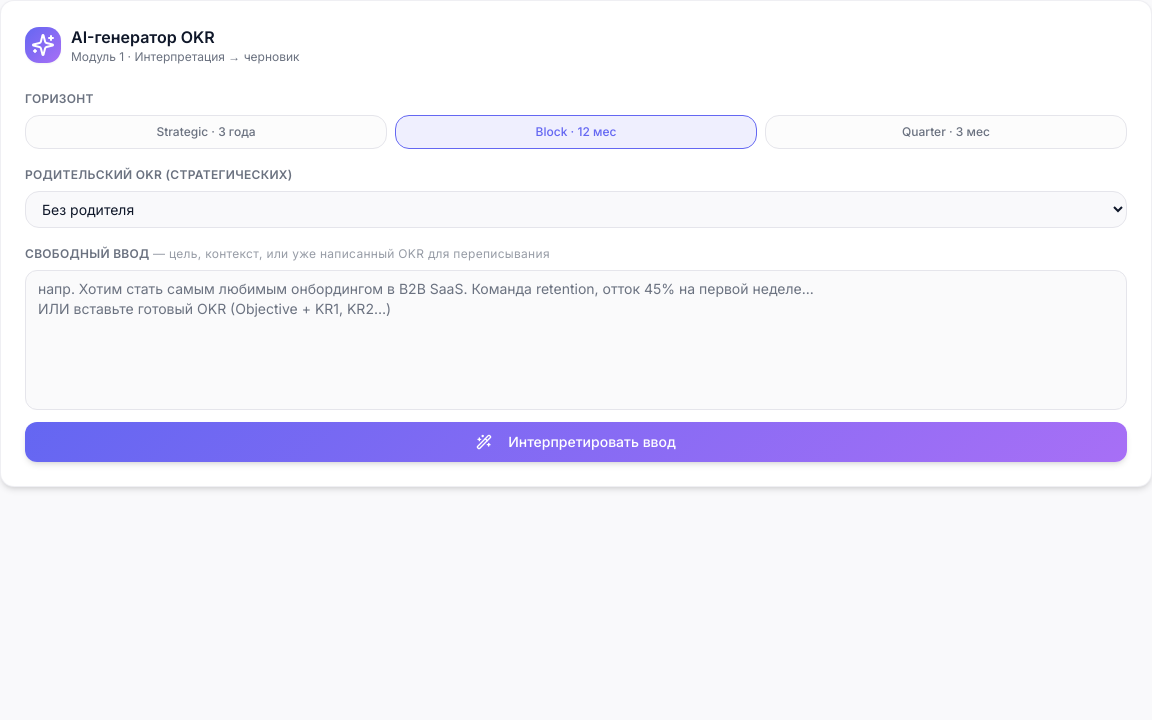
Scenario: OkrGenerator (Module 1) › saveOkr вызывается с третьим аргументом — выбранным parentLink
Later steps or results of the test are not shown.
Select "P2" in the dropdown named "Родительский OKR". click: {"x": 576, "y": 210}
box: 25,191 -> 1127,228
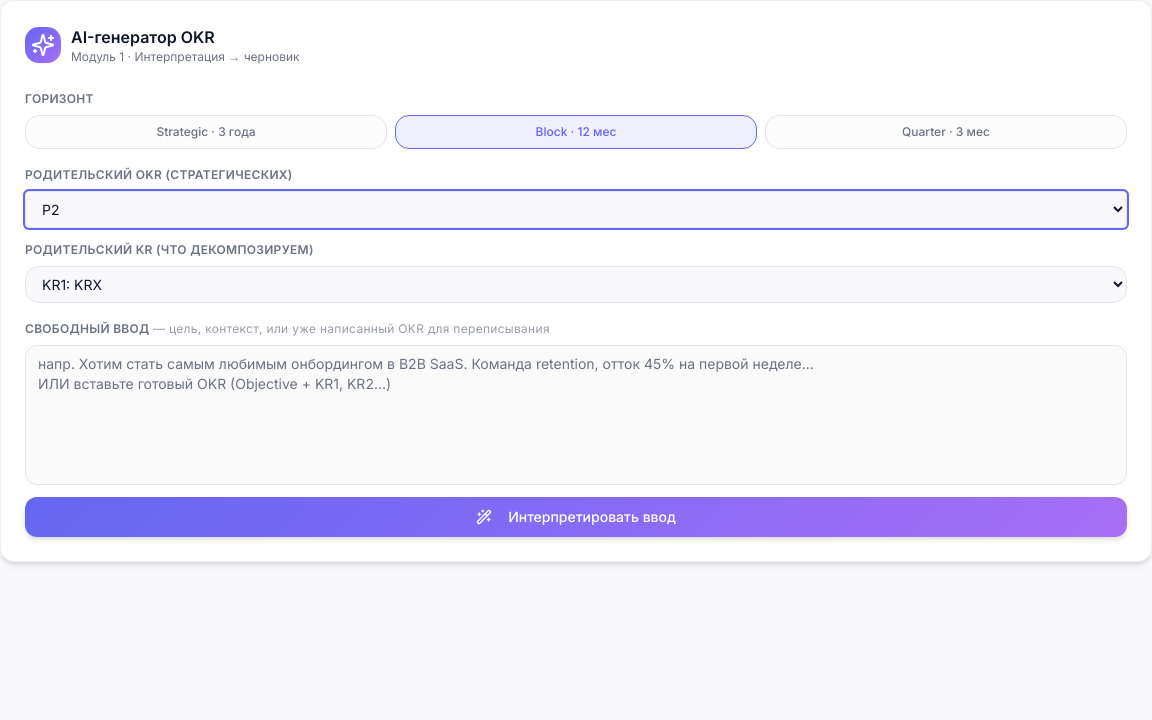
Type "raw" into the text box with placeholder "Хотим стать самым любимым онбордингом". click: {"x": 576, "y": 415}
box: 25,345 -> 1127,485
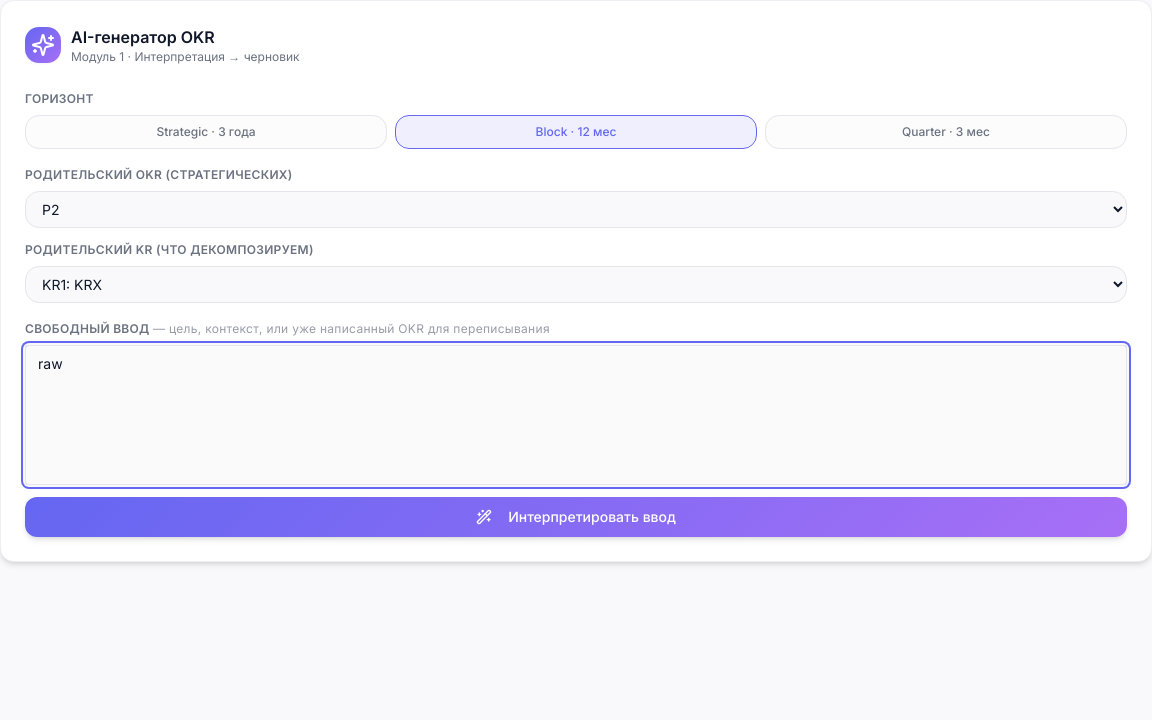
Click the button "Интерпретировать ввод". click: {"x": 576, "y": 517}
box: 25,497 -> 1127,537
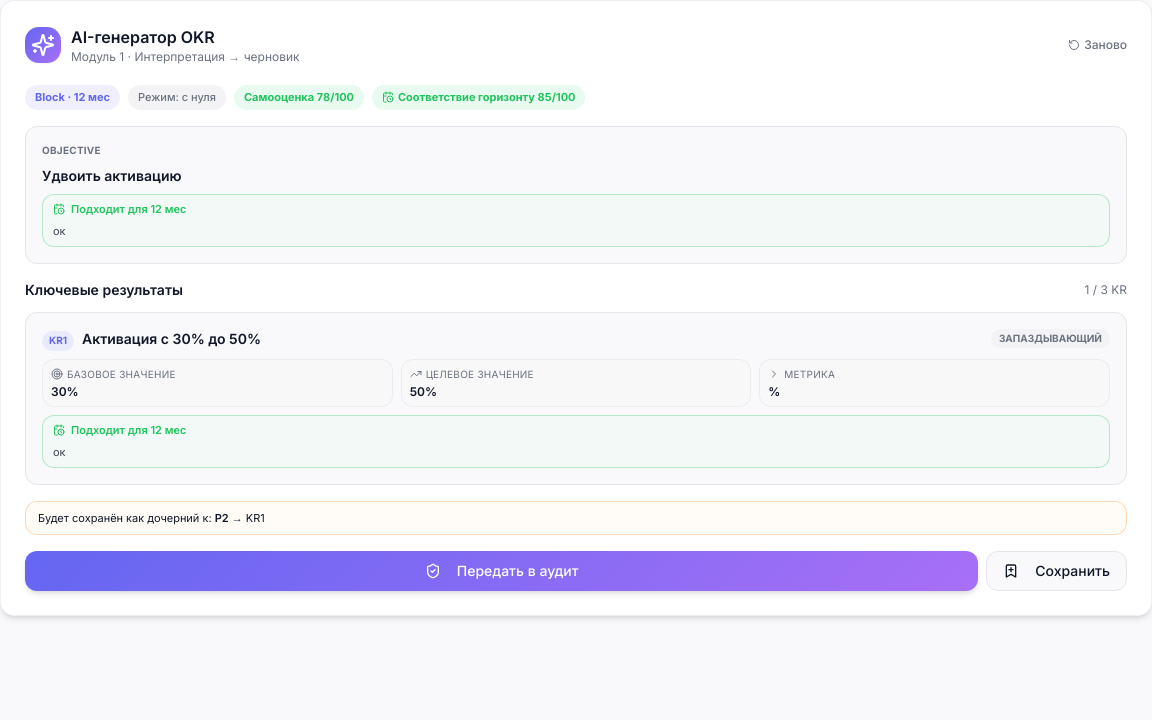
Now the button "Сохранить" is shown, box 986,551 -> 1127,591
